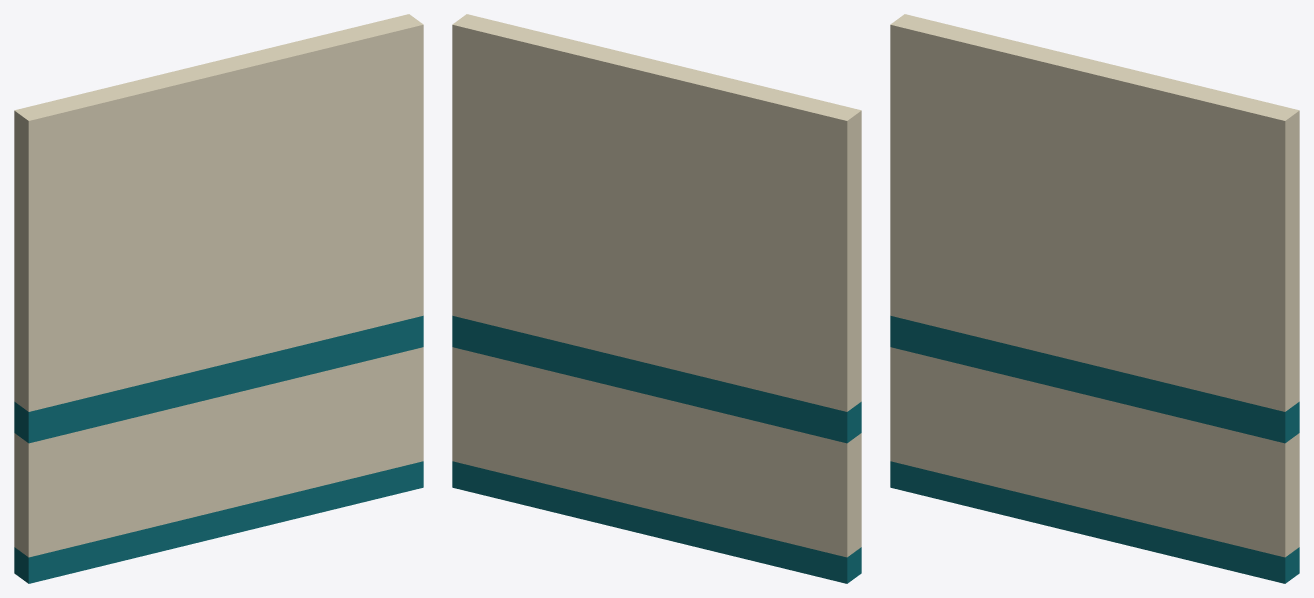
The model's file is straight-wall.glb.
The picture shows the model from 3 angles, left to right: view 1: azimuth 30°, elevation 25°; view 2: azimuth 150°, elevation 25°; view 3: azimuth 330°, elevation 25°; orthographic projection.
Parts seen in each view (by area): view 1: Wall_Static; view 2: Wall_Static; view 3: Wall_Static.
Part boxes in pixels (left/top/right/bottom): Wall_Static: left=14, top=14, right=423, bottom=583; Wall_Static: left=452, top=14, right=861, bottom=583; Wall_Static: left=890, top=14, right=1299, bottom=583.
Bounding box in the file's own units: 2.5 × 2.8 × 0.16.
Materials: 1 (1 with a texture image).
